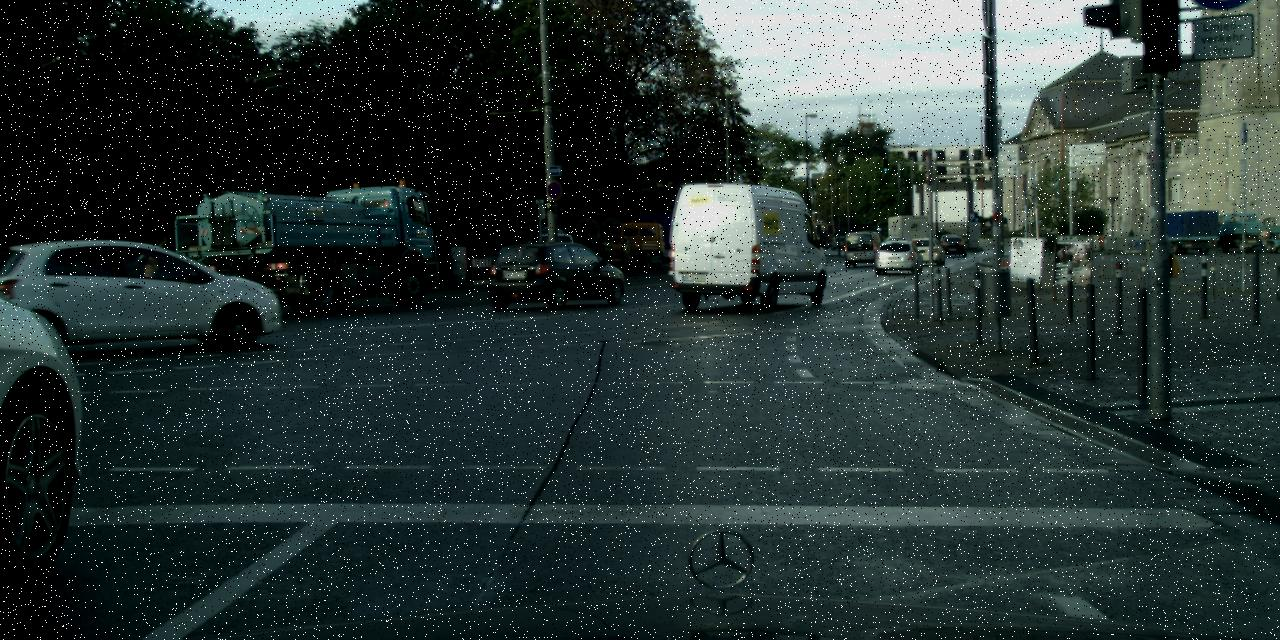ped: (156, 237, 170, 271), (1262, 231, 1270, 251), (1128, 228, 1134, 244)
